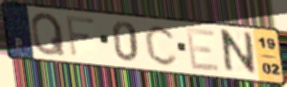0: (110, 19, 140, 64)
C: (143, 23, 181, 67)
E: (183, 26, 222, 74)
F: (64, 13, 98, 59)
N: (221, 28, 259, 77)
Q: (30, 11, 68, 57)
